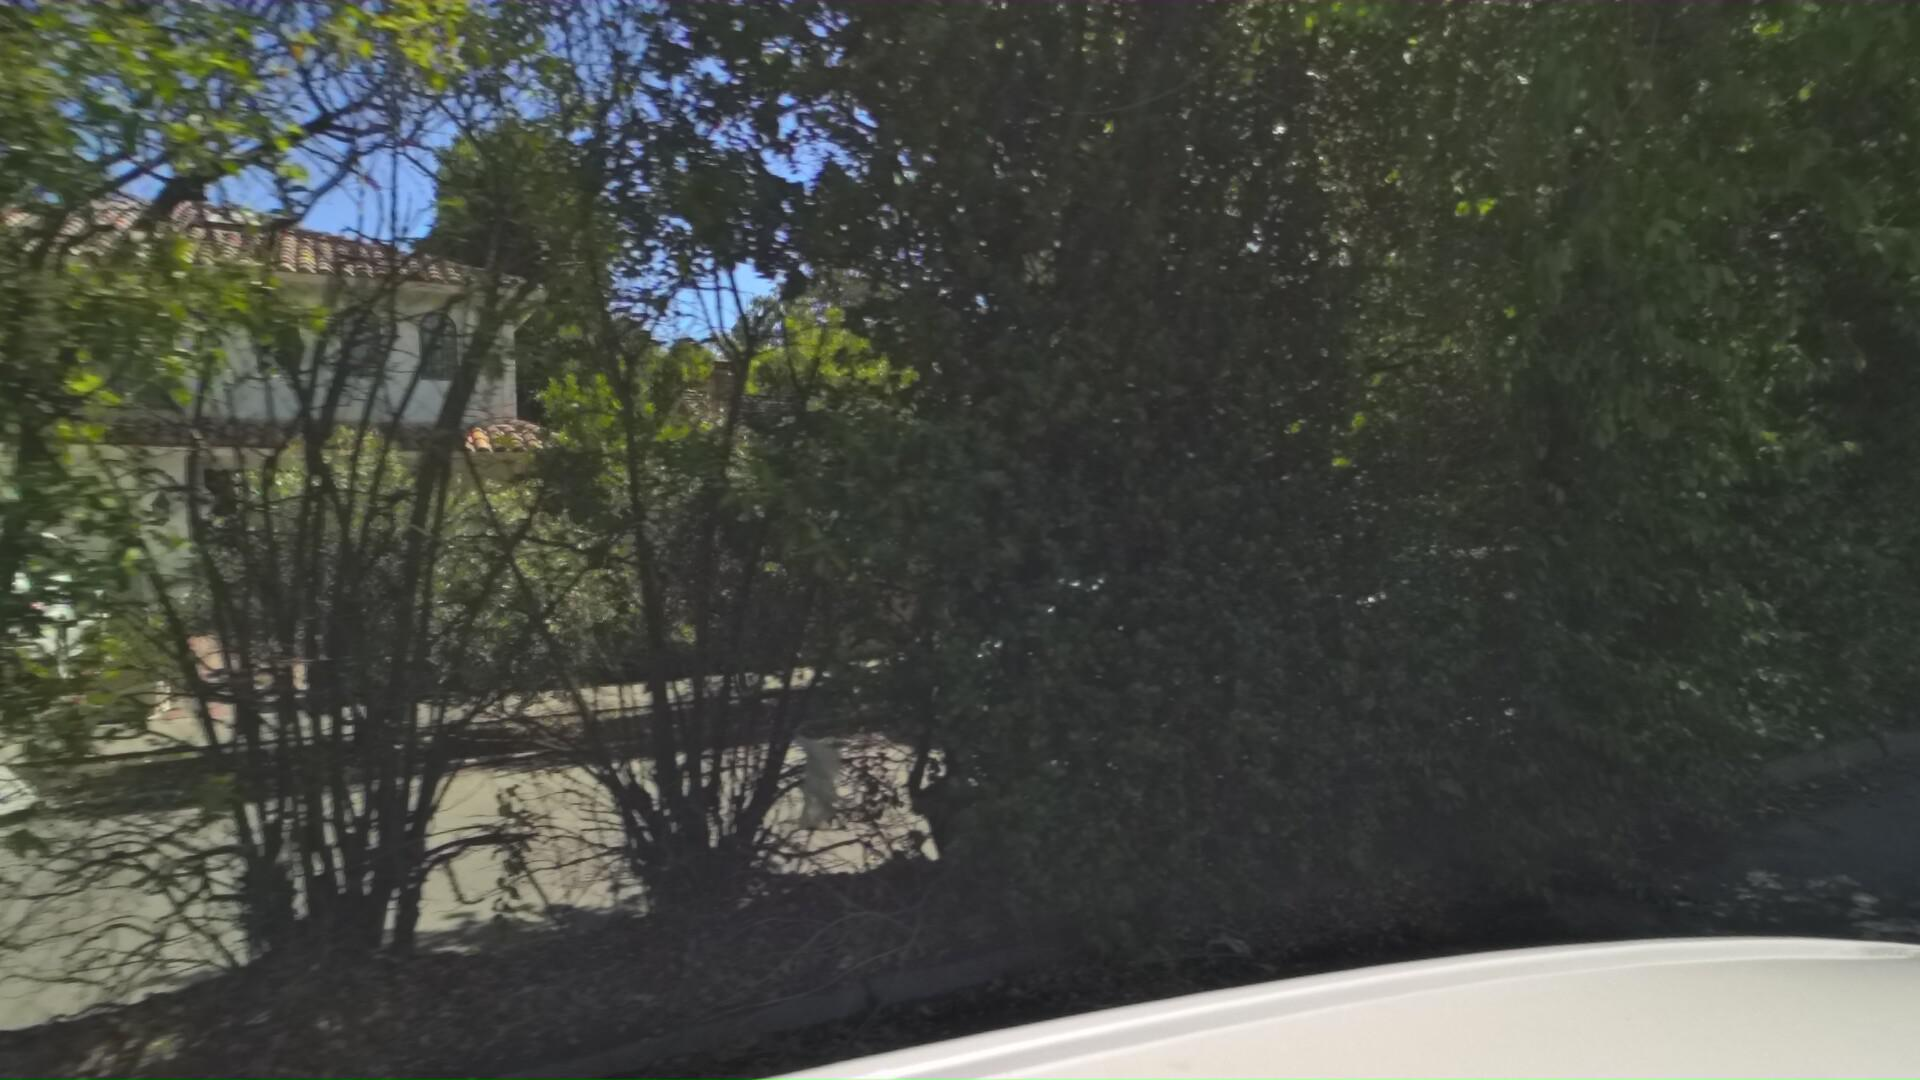car: (905, 562, 1316, 771), (0, 512, 171, 728)
